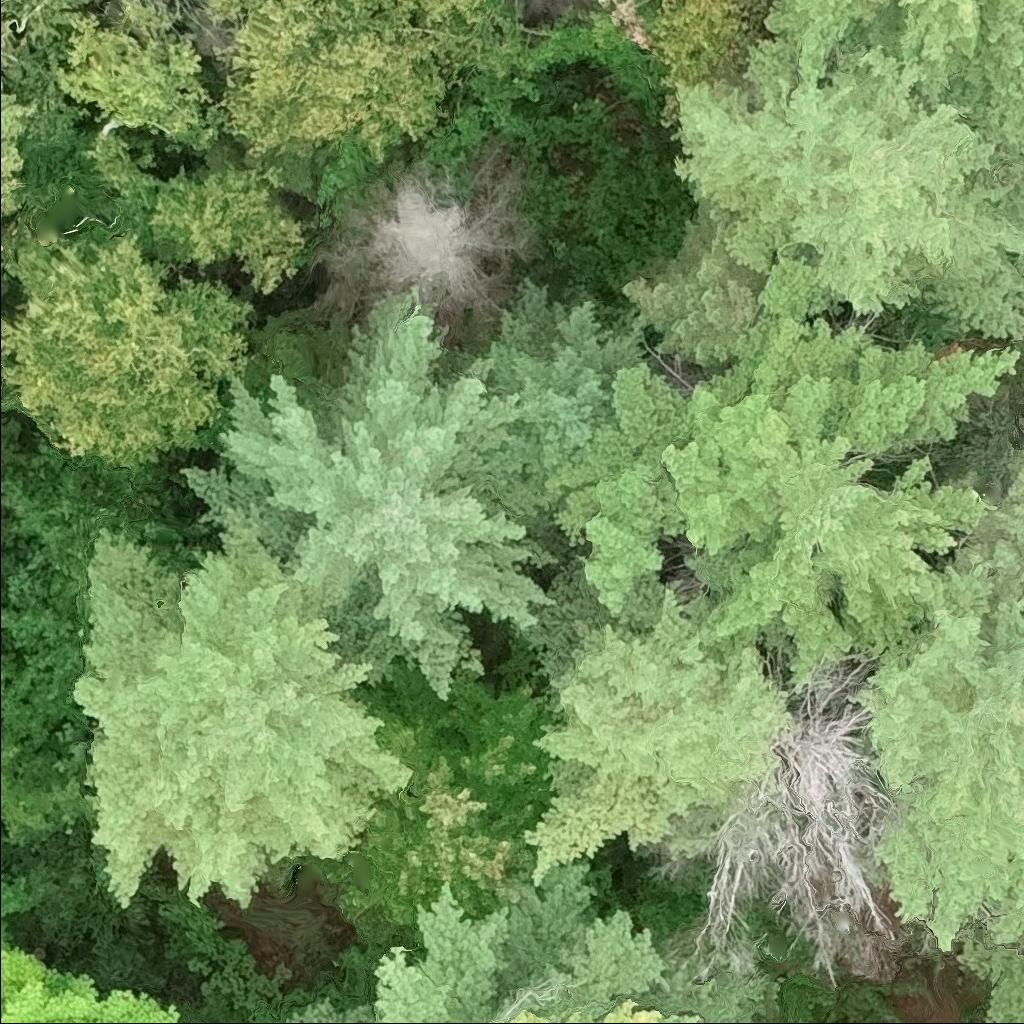crown: (541, 249, 1023, 704), (175, 281, 566, 702), (69, 525, 417, 910), (668, 10, 1023, 349), (511, 562, 806, 885), (846, 446, 1023, 961), (278, 850, 786, 1023), (667, 649, 898, 987), (314, 663, 559, 961), (0, 210, 256, 477), (199, 0, 523, 208), (309, 135, 542, 342), (761, 0, 1023, 154), (68, 134, 315, 294), (480, 272, 645, 485), (50, 0, 241, 158), (612, 216, 767, 371), (0, 941, 182, 1023), (647, 0, 773, 93), (0, 718, 89, 849), (953, 901, 1023, 1023), (0, 77, 42, 273), (0, 844, 62, 948), (590, 0, 657, 55), (0, 0, 23, 72)
